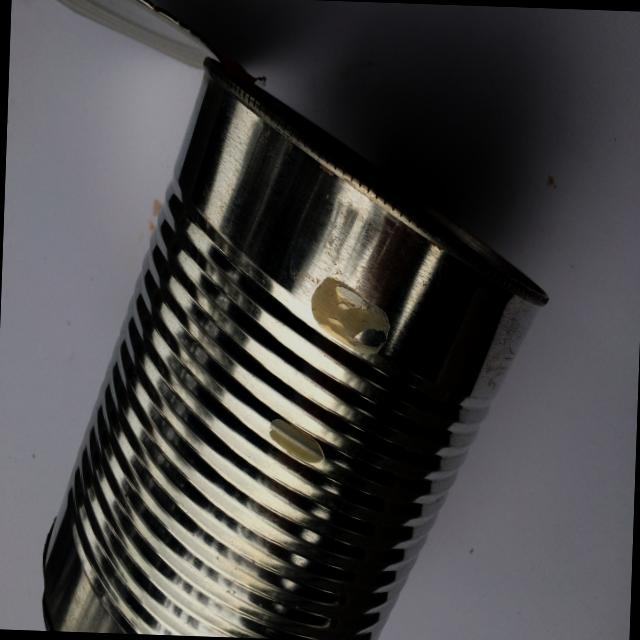Metal: (13, 0, 580, 640)
